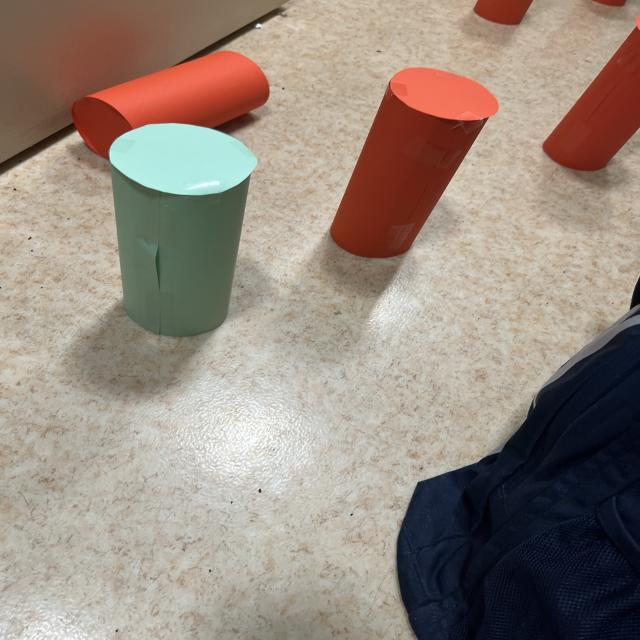meta: (109, 123, 257, 336)
przeszkoda: (331, 68, 498, 257), (72, 51, 269, 158), (543, 17, 640, 170)
